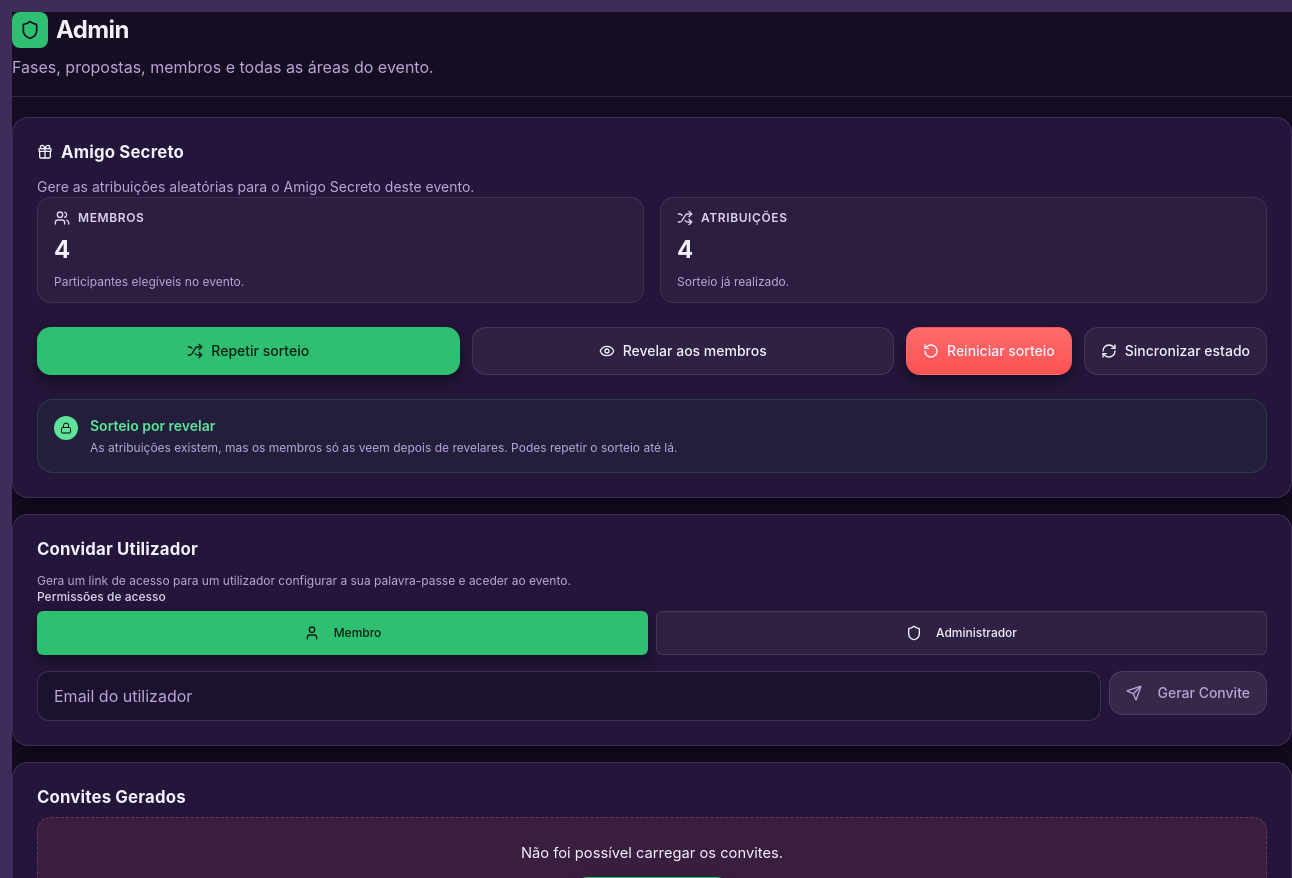
Test case: CanhoesAdminModule — members › repeats and reveals the draw only after confirming
Click the button "Repetir sorteio" at (248, 350), box [37, 326, 460, 374]
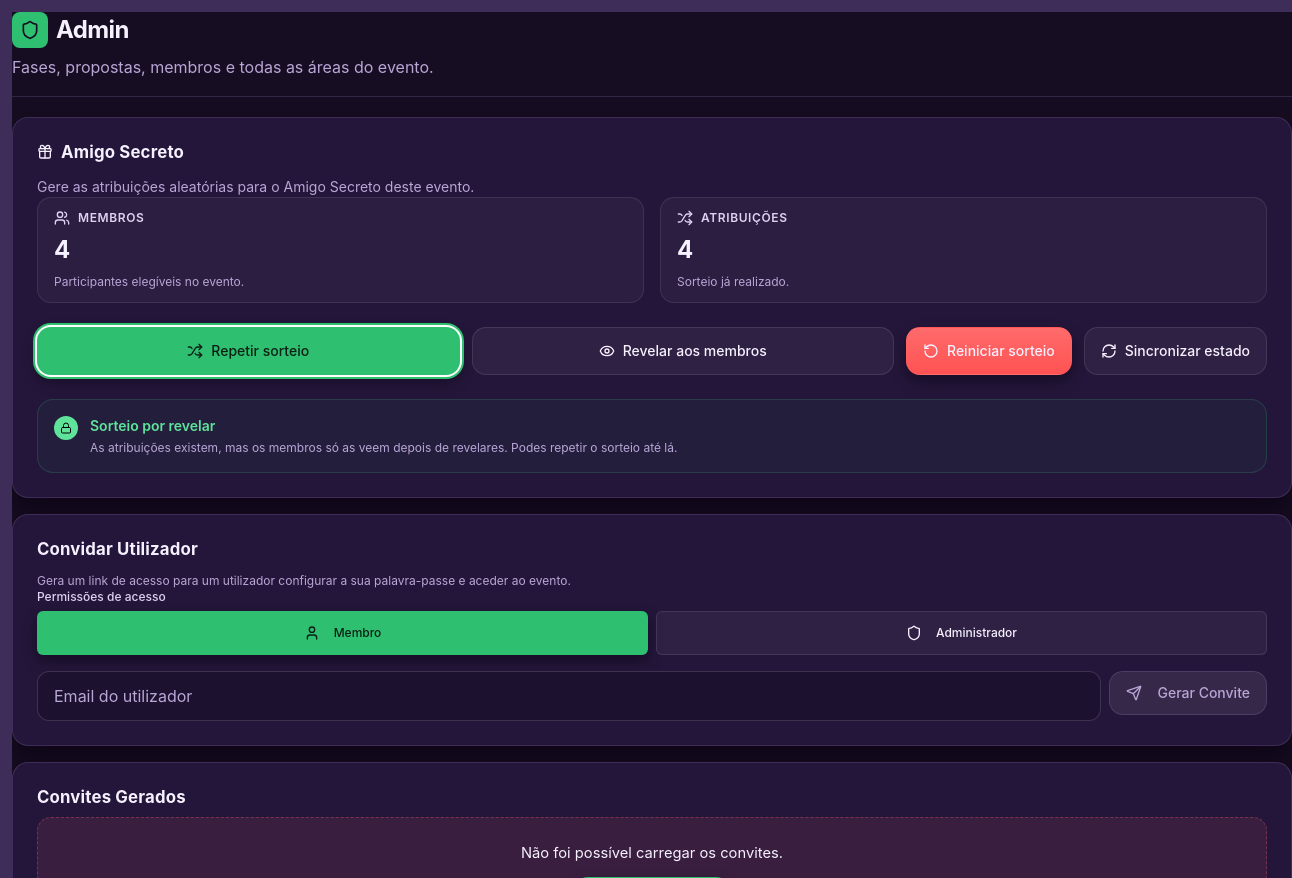
Expected: the text "Sorteio realizado" is not shown
Click the button "Repetir sorteio" at (248, 350), box [37, 326, 460, 374]
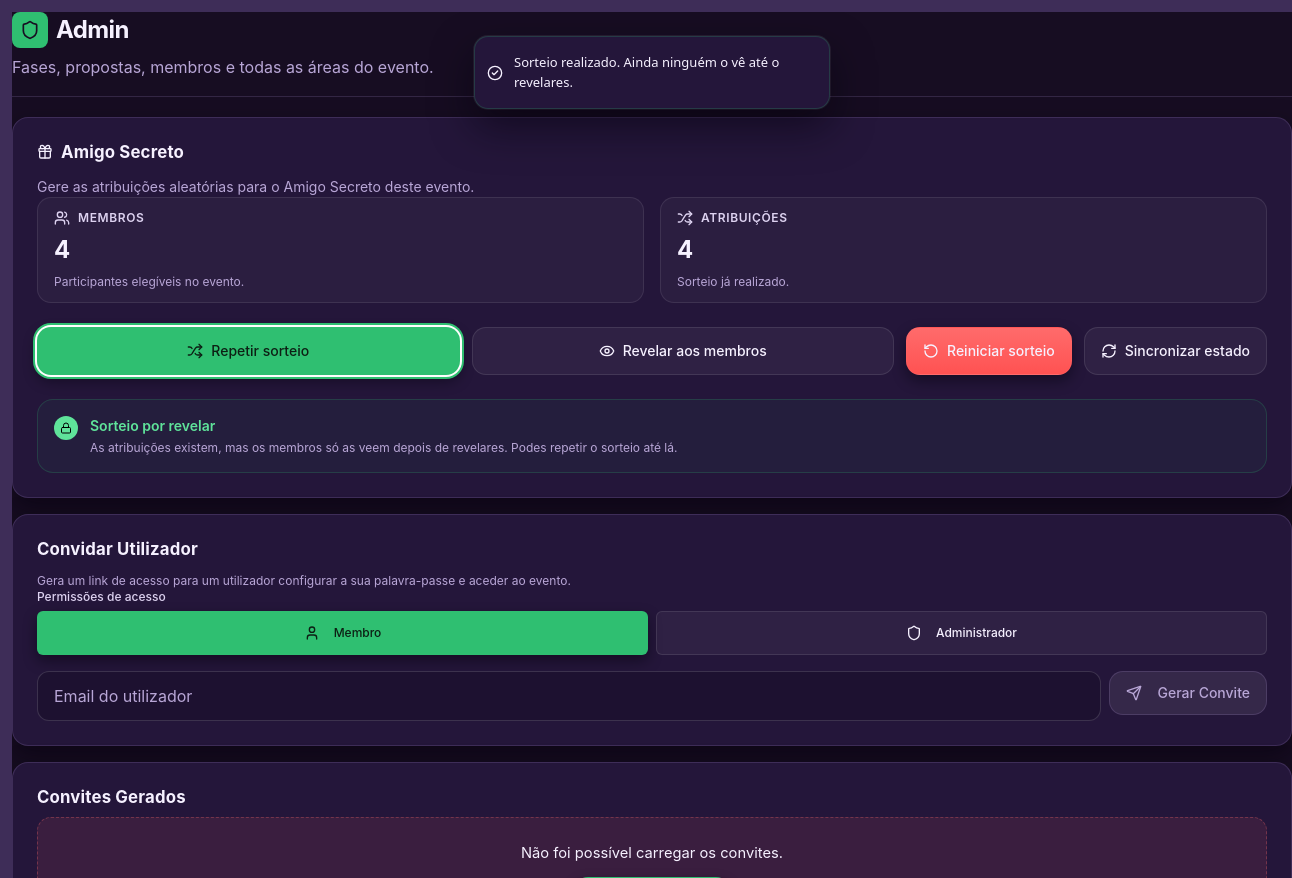
Expected: the text "Sorteio realizado. Ainda ninguém o vê até o revelares." is shown, [514, 53, 813, 92]
Click the button "Revelar aos membros" at (683, 350), box [472, 326, 894, 374]
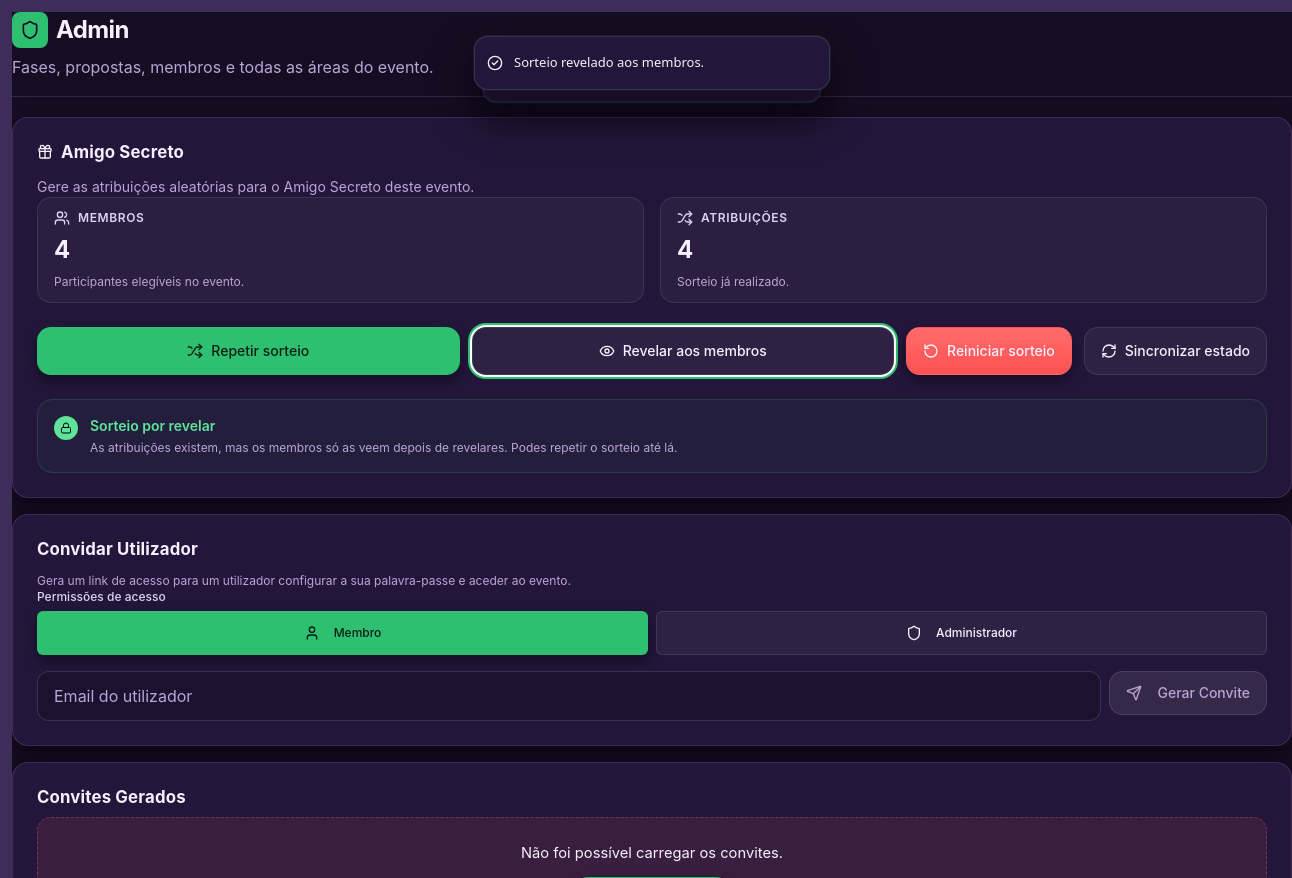
Expected: the text "Sorteio revelado aos membros." is shown, [514, 53, 704, 72]
